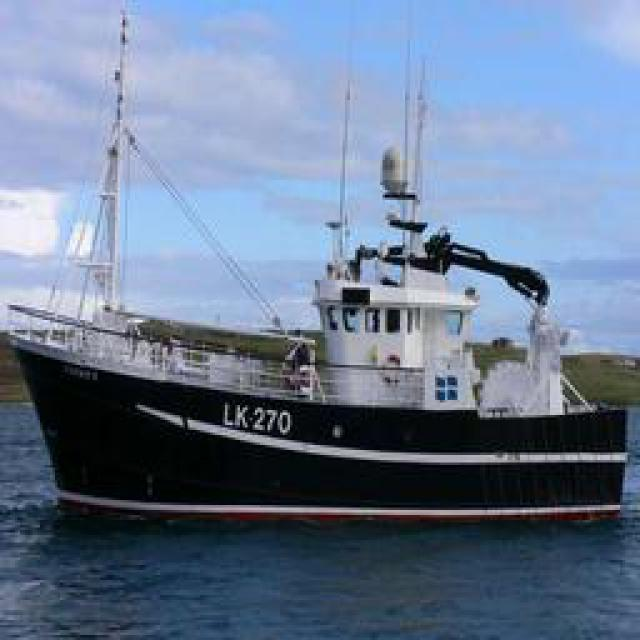Ship: (17, 11, 627, 534)
